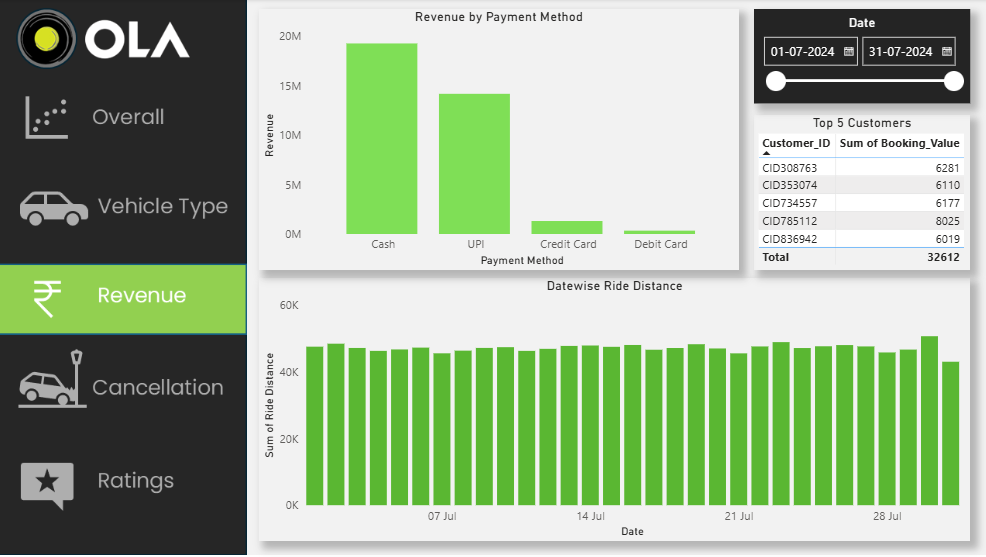

What the dashboard file says about the page in this screenshot:
{"tool":"powerbi","page":{"name":"Revenue","canvas":[1280,720],"ordinal":2},"visuals":[{"type":"actionButton","box":[0,221.1,324.6,93.5],"z":0},{"type":"actionButton","box":[0,449.3,324.6,93.5],"z":1000},{"type":"actionButton","box":[0,574,324.6,93.5],"z":2000},{"type":"actionButton","box":[0,104.9,324.6,93.5],"z":3000},{"type":"columnChart","title":"Revenue by Payment Method","fields":{"Category":["Bookings.Payment_Method"],"Y":["Sum(Bookings.Booking_Value)"]},"box":[338.7,12.8,619.4,337.3],"z":4000},{"type":"columnChart","title":"Datewise Ride Distance","fields":{"Category":["Bookings.Date"],"Y":["Sum(Bookings.Ride_Distance)"]},"box":[338.7,360,918.4,340.2],"z":5000},{"type":"slicer","title":"Date","fields":{"Values":["Bookings.Date"]},"box":[978,12.8,279.2,121.9],"z":6000},{"type":"tableEx","title":"Top 5 Customers","fields":{"Values":["Bookings.Customer_ID","Sum(Bookings.Booking_Value)"]},"box":[978,150.2,279.2,199.8],"z":7000}]}

Visuals, with their boxes in screenshot pixels (x1, y1, x2, y2), scaled from the page's 1280x720 canvas onto the 986x557 screenshot:
actionButton: [left=0, top=171, right=250, bottom=243]
actionButton: [left=0, top=348, right=250, bottom=420]
actionButton: [left=0, top=444, right=250, bottom=516]
actionButton: [left=0, top=81, right=250, bottom=153]
"Revenue by Payment Method" columnChart: [left=261, top=10, right=738, bottom=271]
"Datewise Ride Distance" columnChart: [left=261, top=278, right=968, bottom=542]
"Date" slicer: [left=753, top=10, right=968, bottom=104]
"Top 5 Customers" tableEx: [left=753, top=116, right=968, bottom=271]
